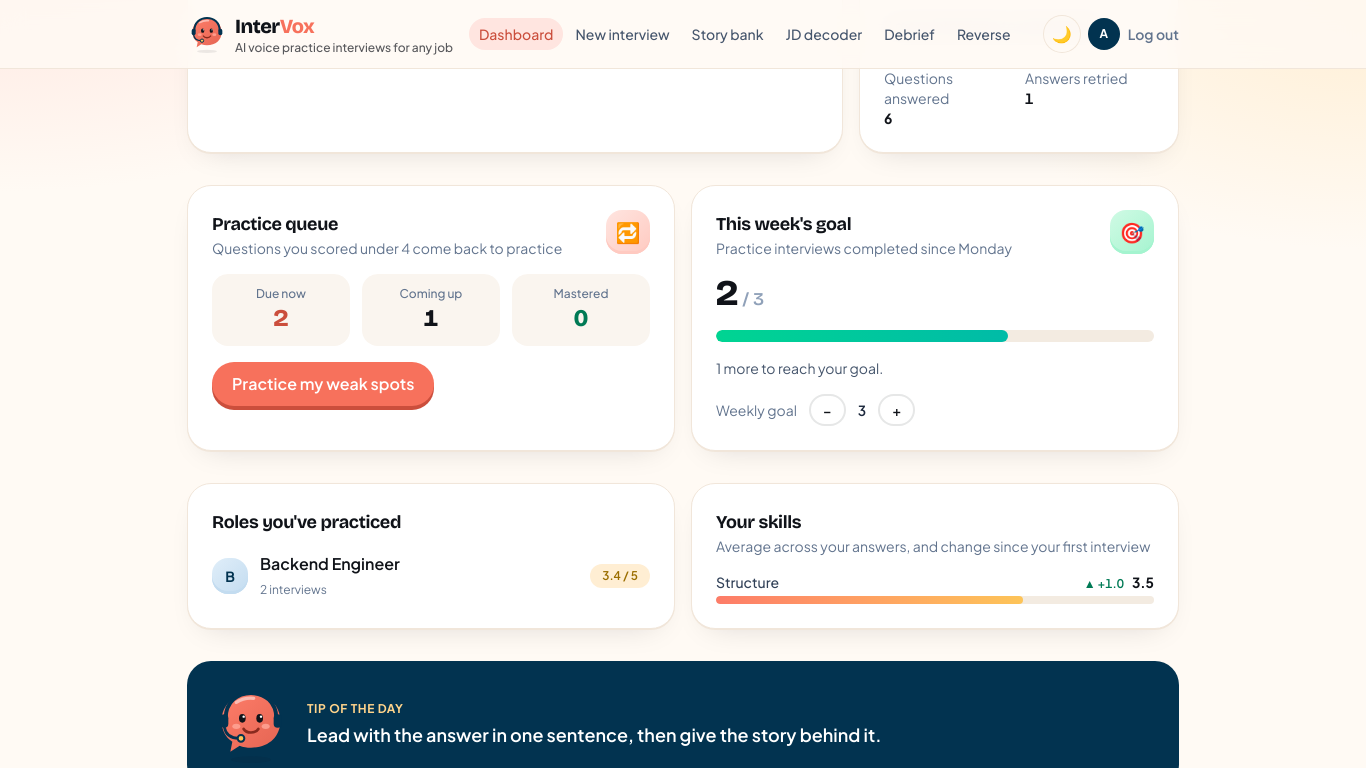
Scenario: dashboard progress › starts a weak-spot interview from the practice queue
The width and height of the screenshot is (1366, 768).
(page scrolled)
Expected: the text "2" is shown, [274,304,288,332]
What coordinates should you click on to do the following:
click the button "Practice my weak spots"
I would click on:
 (323, 384)
Its box is [212,362,434,406].
(page scrolled)
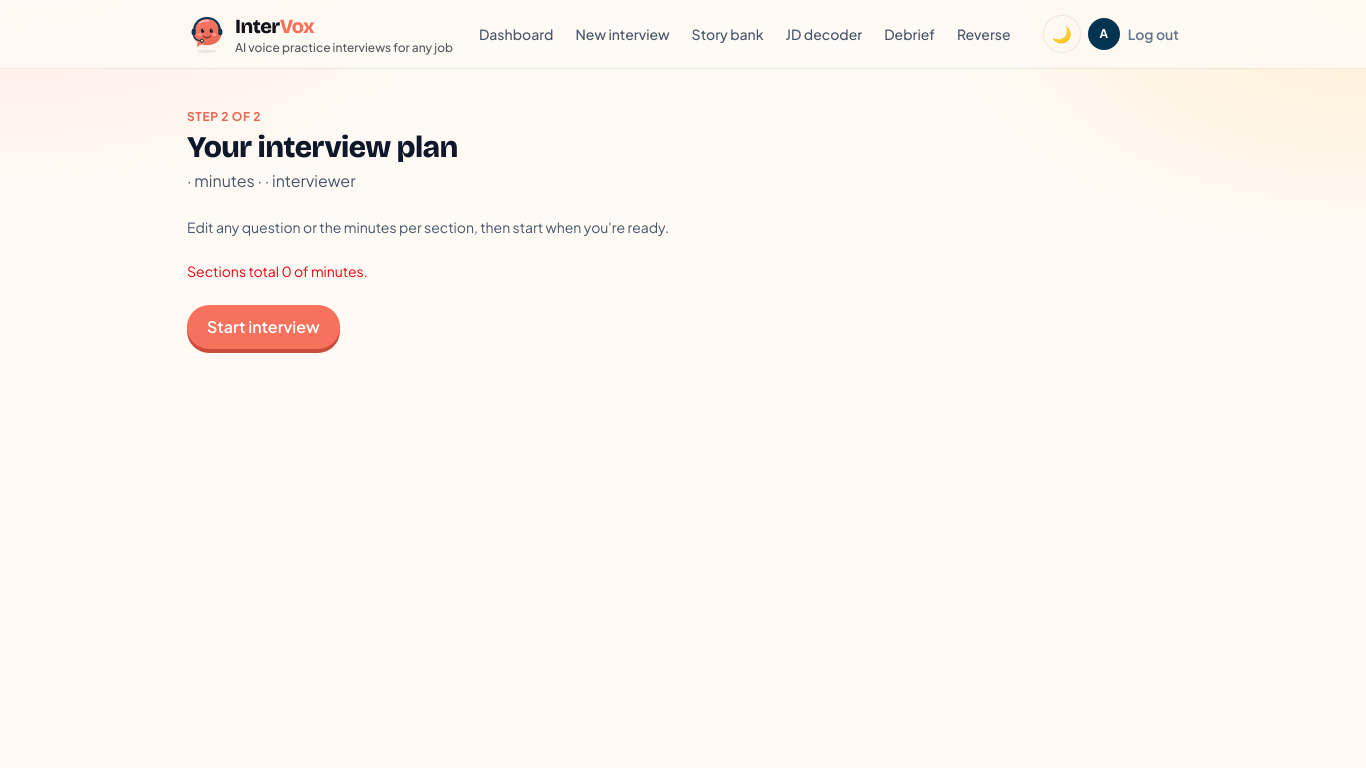
Expected: the heading "Your interview plan" is shown, [187,129,458,165]
